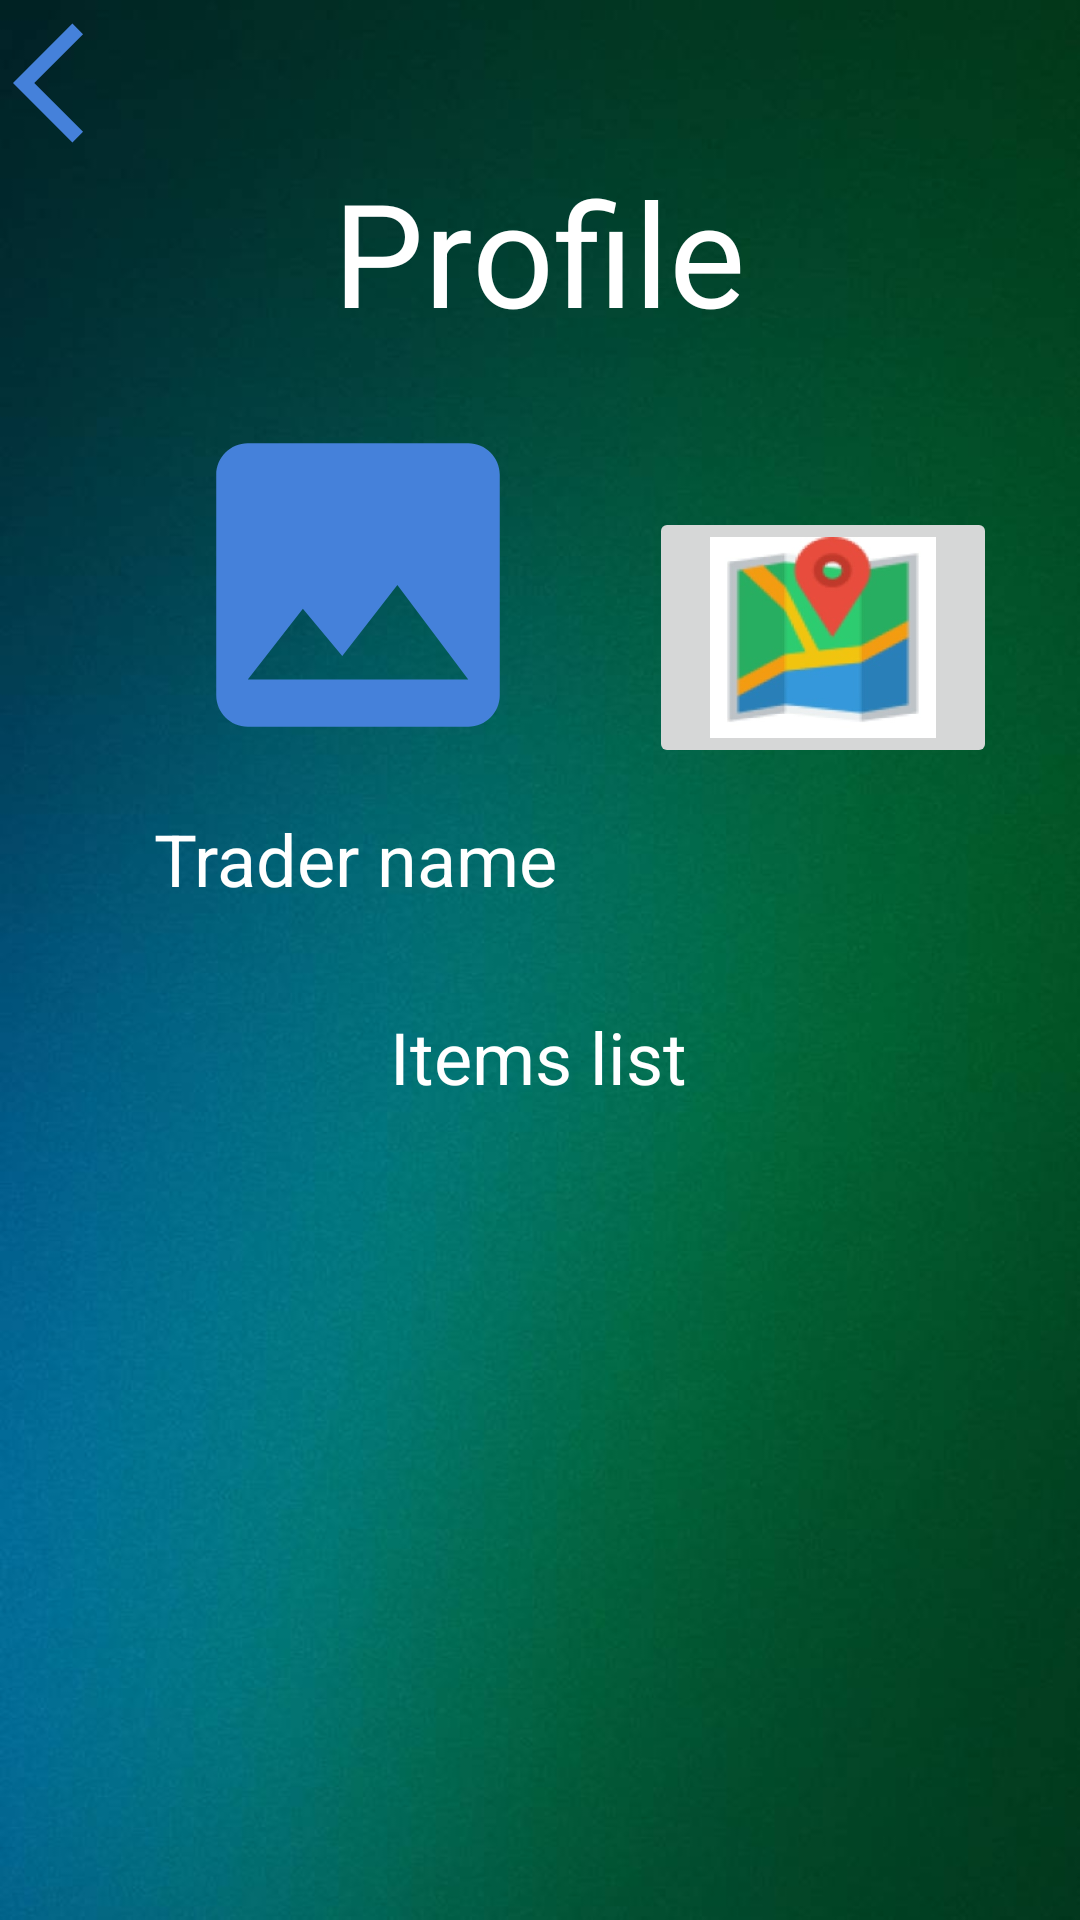

Icon bounding boxes for this 1080 x 1920 phone screenshot, format bbox=[x1, y1, x2, y2]:
Back button: bbox=[13, 23, 83, 143]
